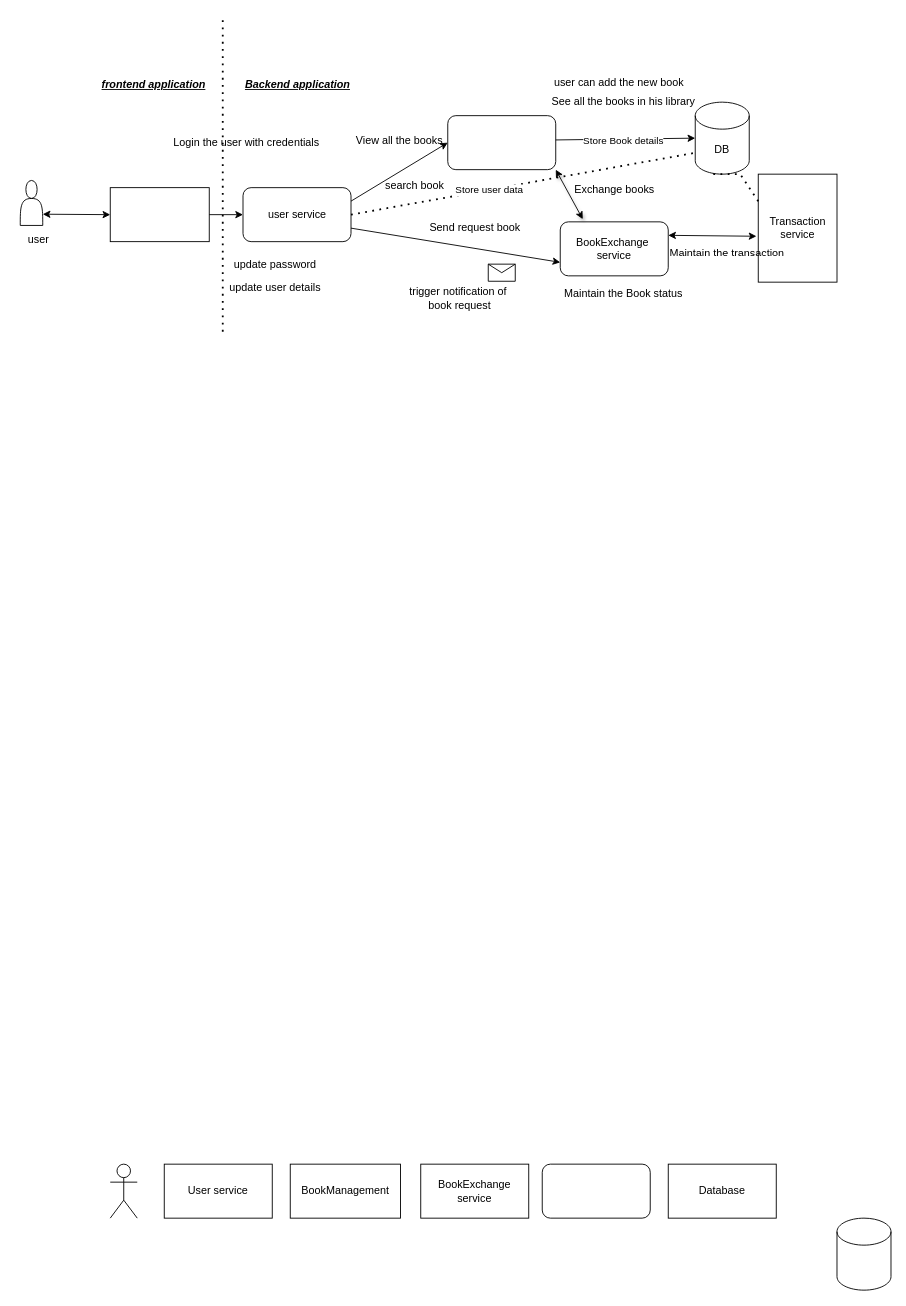
This 906x1306 diagram has some shape labels left out. The centre of each missing label's shape, as x and y in pixels:
"Actor" belongs at [123,1190].
"Book service" belongs at [501,142].
"Frontend/ React Application" belongs at [159,214].
"Notification service" belongs at [595,1190].
